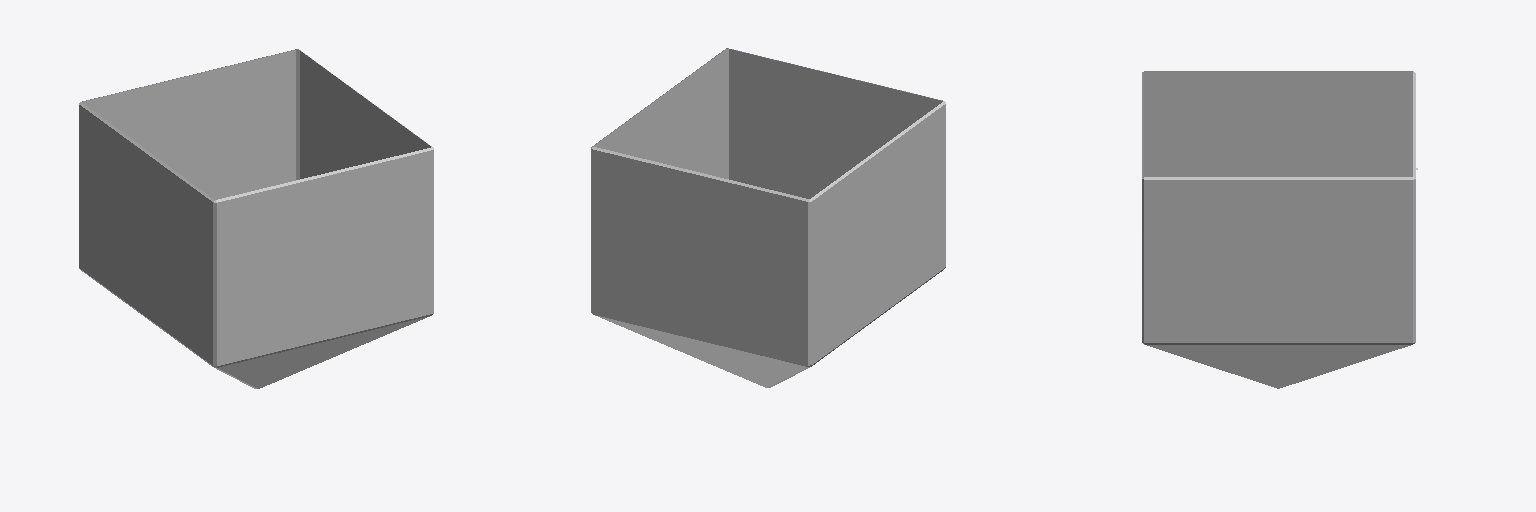
Rendered from newboyshostelh1_pointer.obj.
3 renders of one model, left to right at view 1: azimuth 30°, elevation 25°; view 2: azimuth 150°, elevation 25°; view 3: azimuth 270°, elevation 25°, orthographic.
Bounding box in the file's own units: 2.23 × 2.54 × 2.41.